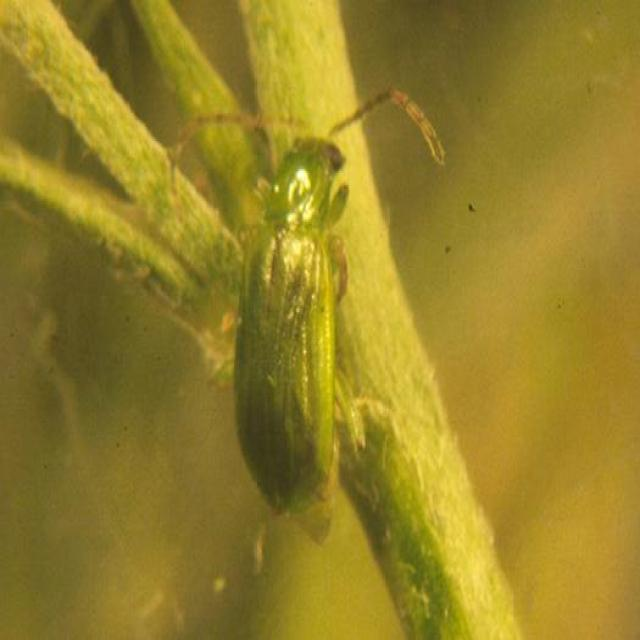gusano_gris: (168, 88, 448, 546)
